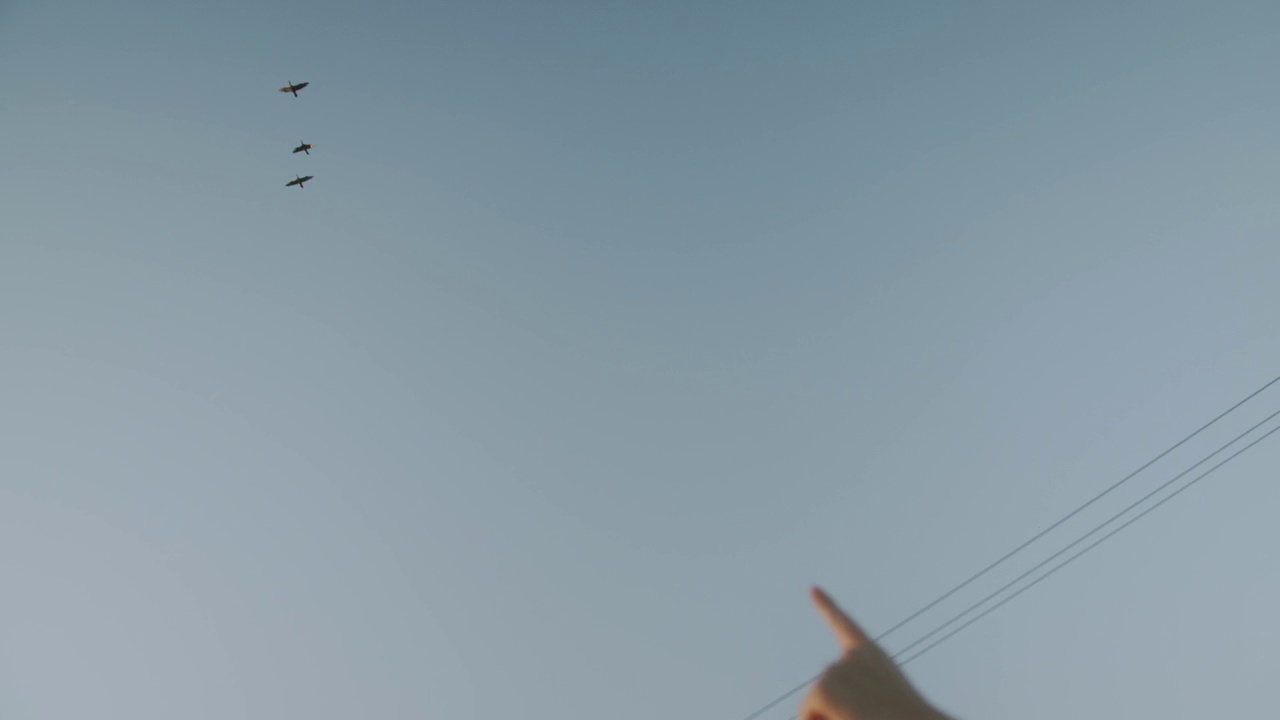bird: (277, 78, 309, 97), (285, 172, 312, 189), (293, 141, 313, 155)
